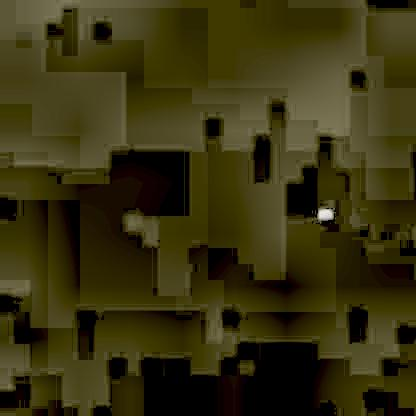golfball: (315, 206, 332, 221)
